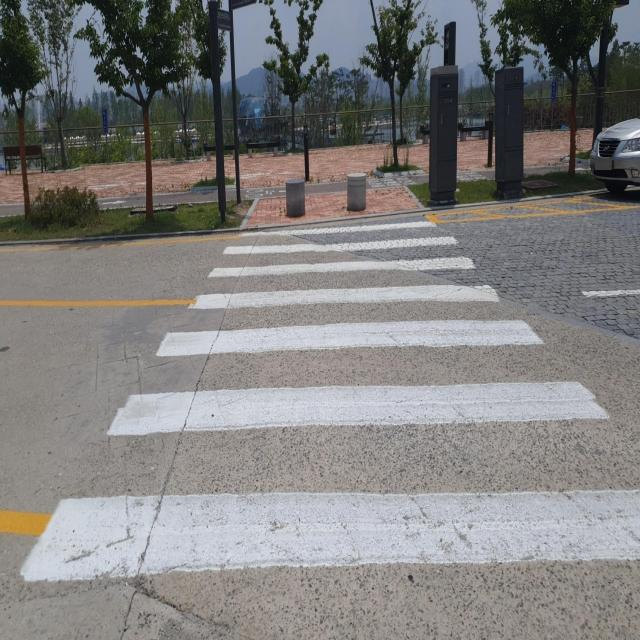횡단보도: (16, 219, 640, 587)
